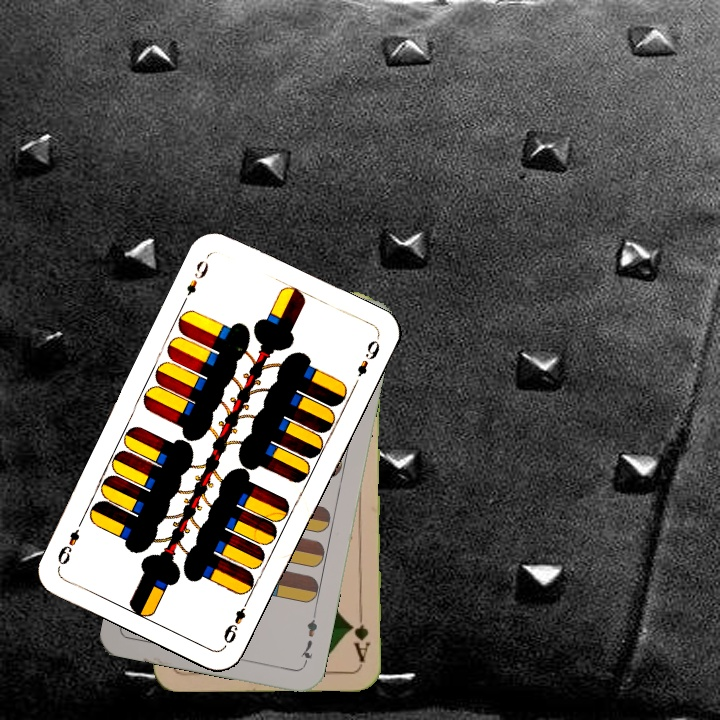E7: (296, 609, 320, 668)
E9: (219, 594, 253, 649), (182, 256, 212, 298)
GA: (345, 607, 372, 665)
